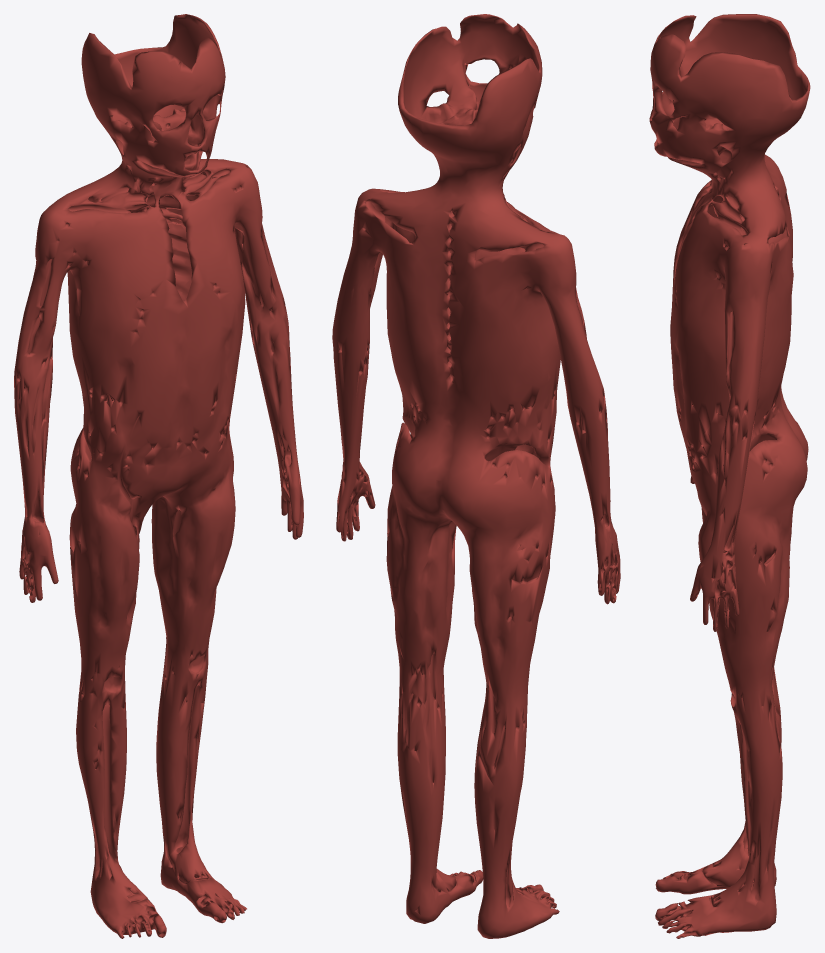
File: pediatric_child_5y_female.muscular.LOD1.glb
3 views of the same model, side by side, from view 1: azimuth 30°, elevation 25°; view 2: azimuth 150°, elevation 25°; view 3: azimuth 270°, elevation 25° (orthographic).
Visible parts, largest first — view 1: PEDIATRIC.CHILD_5Y.FEMALE.MUSCULAR.MUSCLE; view 2: PEDIATRIC.CHILD_5Y.FEMALE.MUSCULAR.MUSCLE; view 3: PEDIATRIC.CHILD_5Y.FEMALE.MUSCULAR.MUSCLE.
Part boxes in pixels (bbox=[...]): PEDIATRIC.CHILD_5Y.FEMALE.MUSCULAR.MUSCLE: bbox=[14, 14, 303, 938]; PEDIATRIC.CHILD_5Y.FEMALE.MUSCULAR.MUSCLE: bbox=[332, 14, 620, 938]; PEDIATRIC.CHILD_5Y.FEMALE.MUSCULAR.MUSCLE: bbox=[649, 14, 810, 938].
Bounding box in the file's own units: 0.3468 × 1.07 × 0.1763.
